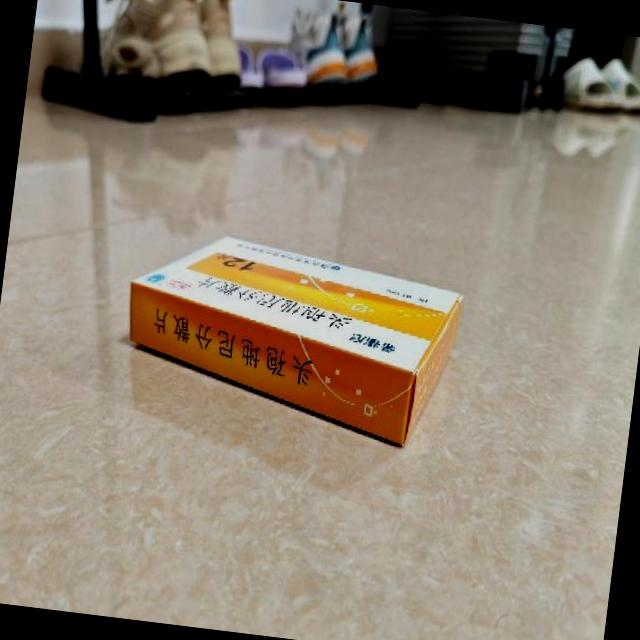box: (116, 222, 468, 451)
